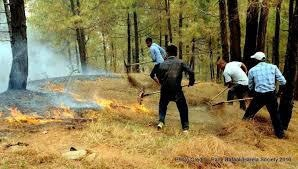fire: (0, 92, 130, 124)
